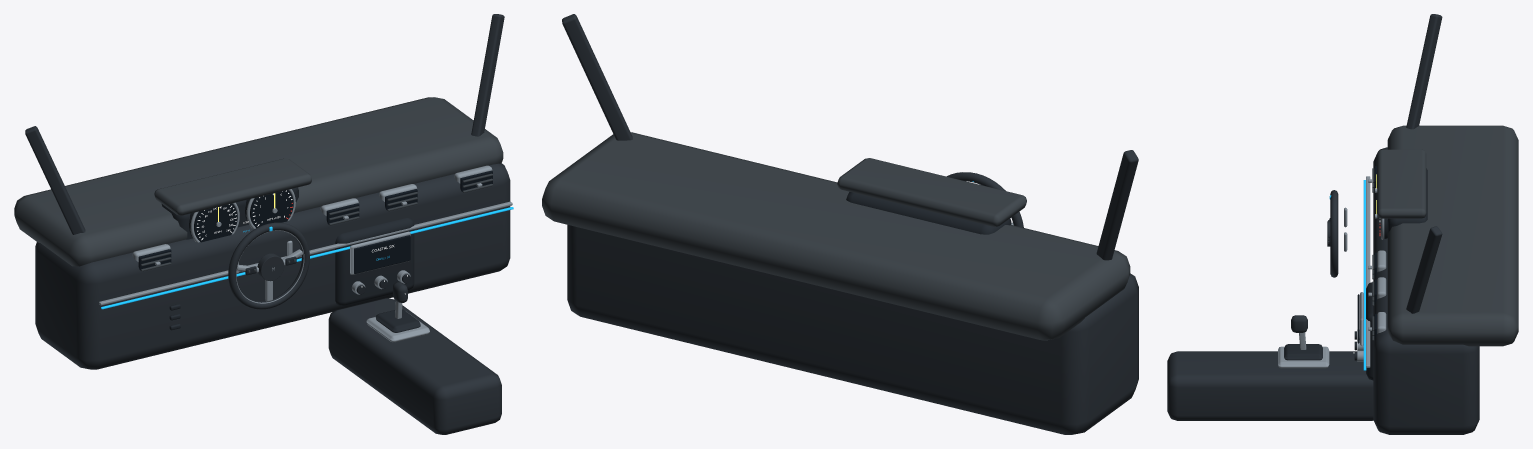
Rendered from cockpit.glb.
3 views of the same model, side by side, from view 1: azimuth 30°, elevation 25°; view 2: azimuth 150°, elevation 25°; view 3: azimuth 270°, elevation 25° (orthographic). The views are drawn at different scales.
Parts seen in each view (by area): view 1: Web_CockpitRoot_Cockpit_Leather, Web_CockpitRoot_Cockpit_Dash, Web_CockpitRoot_Cockpit_GaugeFace, Web_CockpitRoot_Cockpit_Carbon, Web_CockpitRoot_Cockpit_BrushedMetal, Web_SteeringWheel_Cockpit_Leather, Web_CockpitRoot_Cockpit_Accent, Web_SteeringWheel_Cockpit_BrushedMetal; view 2: Web_CockpitRoot_Cockpit_Dash, Web_CockpitRoot_Cockpit_Leather, Web_CockpitRoot_Cockpit_Carbon, Web_SteeringWheel_Cockpit_Leather; view 3: Web_CockpitRoot_Cockpit_Dash, Web_CockpitRoot_Cockpit_Leather, Web_CockpitRoot_Cockpit_BrushedMetal, Web_CockpitRoot_Cockpit_Carbon, Web_SteeringWheel_Cockpit_Leather, Web_CockpitRoot_Cockpit_Accent, Web_CockpitRoot_Cockpit_GaugeFace.
Part boxes in pixels (x1,y1,x2,y2): Web_CockpitRoot_Cockpit_Leather: (25, 14, 510, 434); Web_CockpitRoot_Cockpit_Dash: (14, 97, 503, 271); Web_CockpitRoot_Cockpit_GaugeFace: (138, 170, 492, 273); Web_CockpitRoot_Cockpit_Carbon: (161, 187, 420, 332); Web_CockpitRoot_Cockpit_BrushedMetal: (99, 165, 512, 342); Web_SteeringWheel_Cockpit_Leather: (228, 222, 309, 309); Web_CockpitRoot_Cockpit_Accent: (101, 207, 513, 309); Web_SteeringWheel_Cockpit_BrushedMetal: (236, 230, 304, 303); Web_CockpitRoot_Cockpit_Dash: (542, 132, 1130, 340); Web_CockpitRoot_Cockpit_Leather: (562, 14, 1138, 434); Web_CockpitRoot_Cockpit_Carbon: (846, 192, 1011, 234); Web_SteeringWheel_Cockpit_Leather: (946, 172, 1023, 227); Web_CockpitRoot_Cockpit_Dash: (1372, 125, 1518, 346); Web_CockpitRoot_Cockpit_Leather: (1167, 14, 1479, 434); Web_CockpitRoot_Cockpit_BrushedMetal: (1278, 176, 1386, 368); Web_CockpitRoot_Cockpit_Carbon: (1284, 168, 1427, 380); Web_SteeringWheel_Cockpit_Leather: (1327, 190, 1338, 277); Web_CockpitRoot_Cockpit_Accent: (1363, 180, 1366, 370); Web_CockpitRoot_Cockpit_GaugeFace: (1357, 166, 1381, 343).
Bounding box in the file's own units: 2.55 × 1.39 × 1.71.
